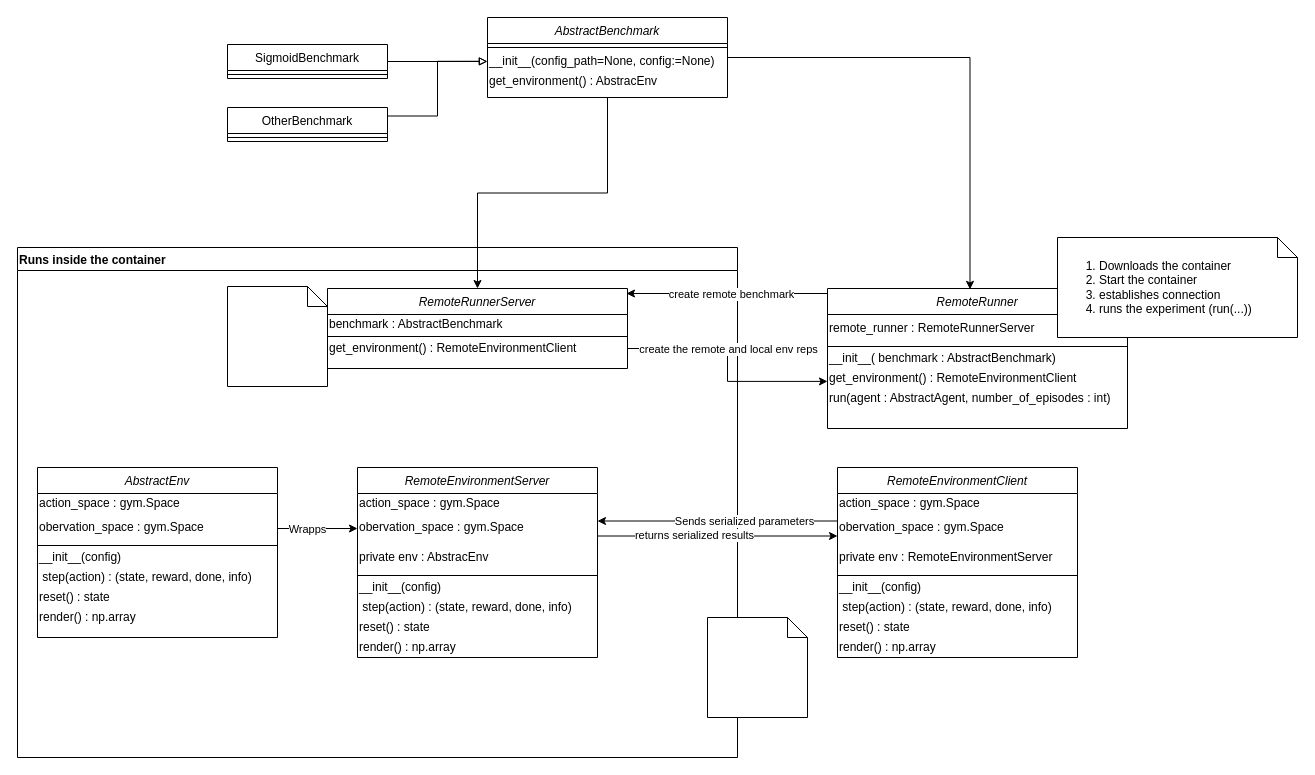
This 1315x775 diagram has some shape labels left out. Here are the shapes that lost their labels. From the top down, the centre of each, then its label:
At pixel 277 336: "currently responsible for setting up the exp. (wrapper, logging)".
At pixel 757 667: "Objects are beeing serialized to json and communication is handle by pyro4".
